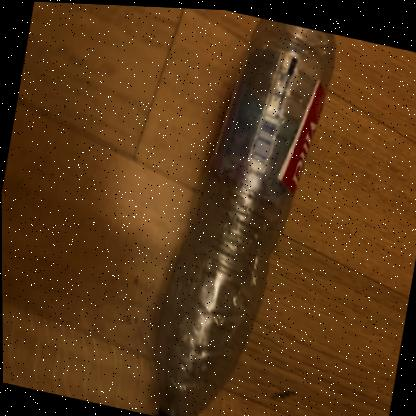Plastic: (154, 16, 335, 416)
